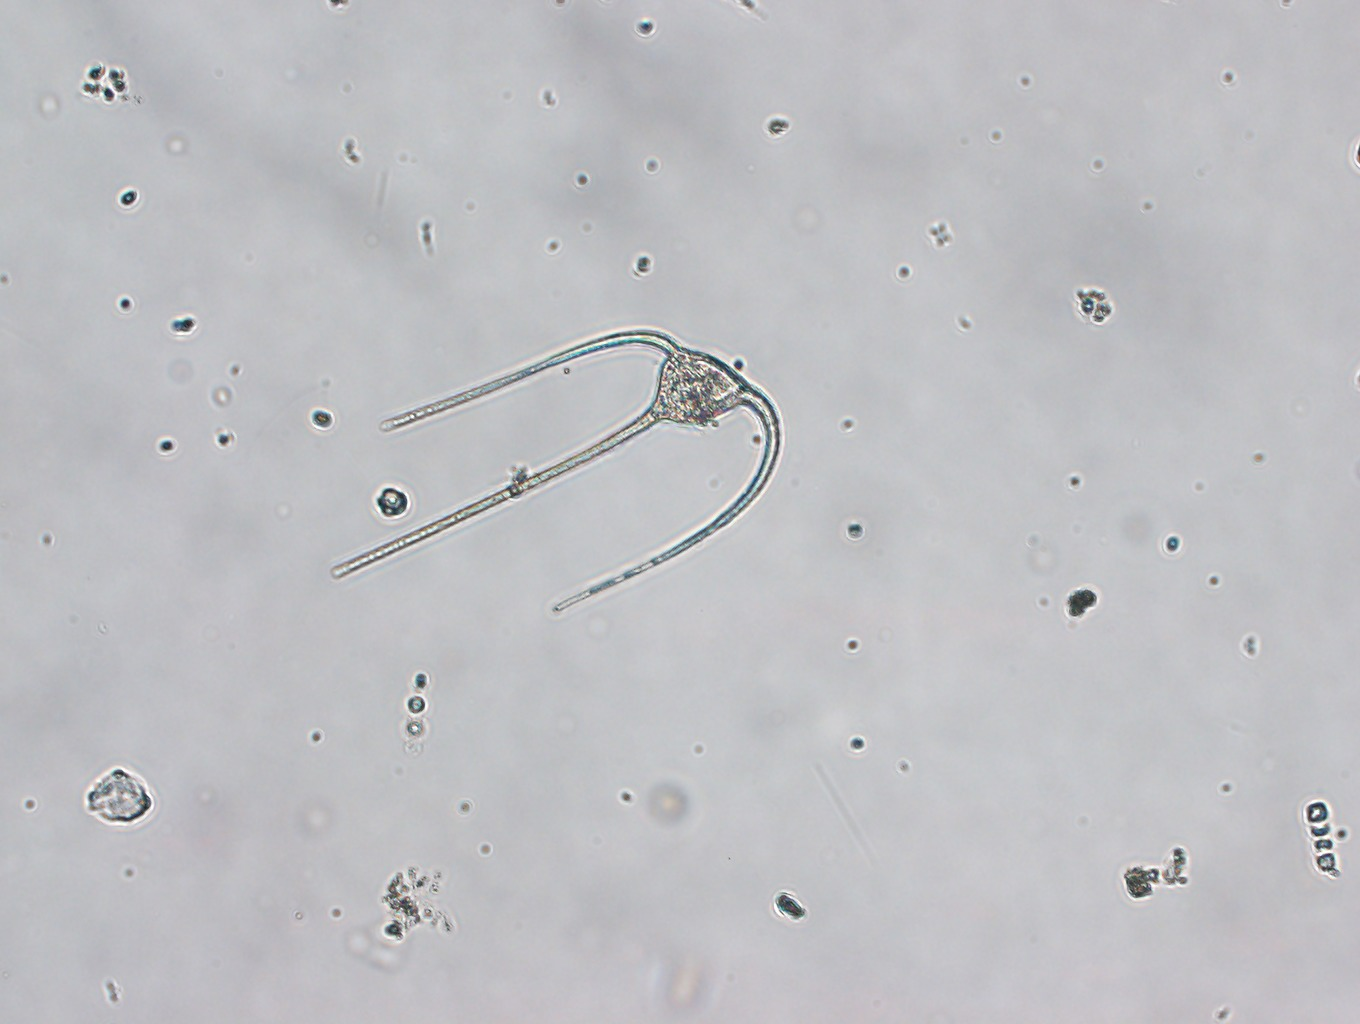ceratium trichoceros: (316, 307, 789, 623)
